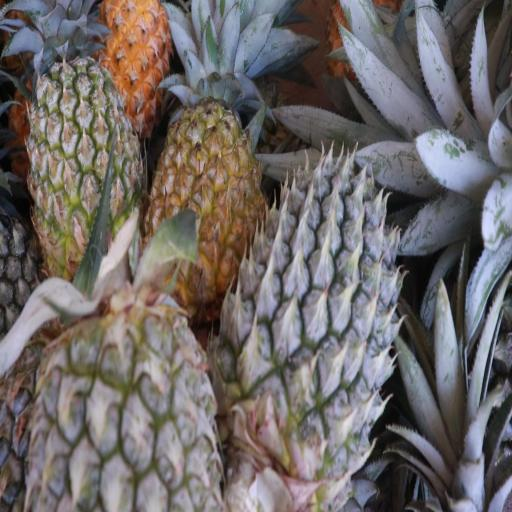------------------------------: (25, 59, 135, 269)
Pineapple - v8 v1: (151, 104, 260, 300), (77, 0, 169, 107)
